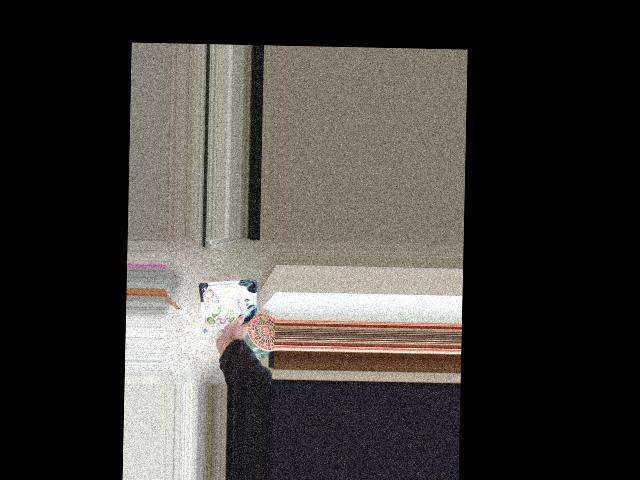cheese: (197, 290, 256, 351)
